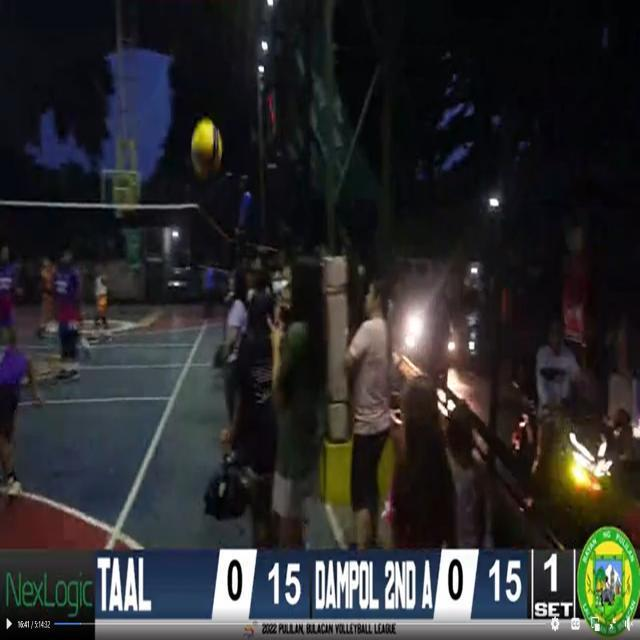volleyball: (190, 120, 223, 178)
